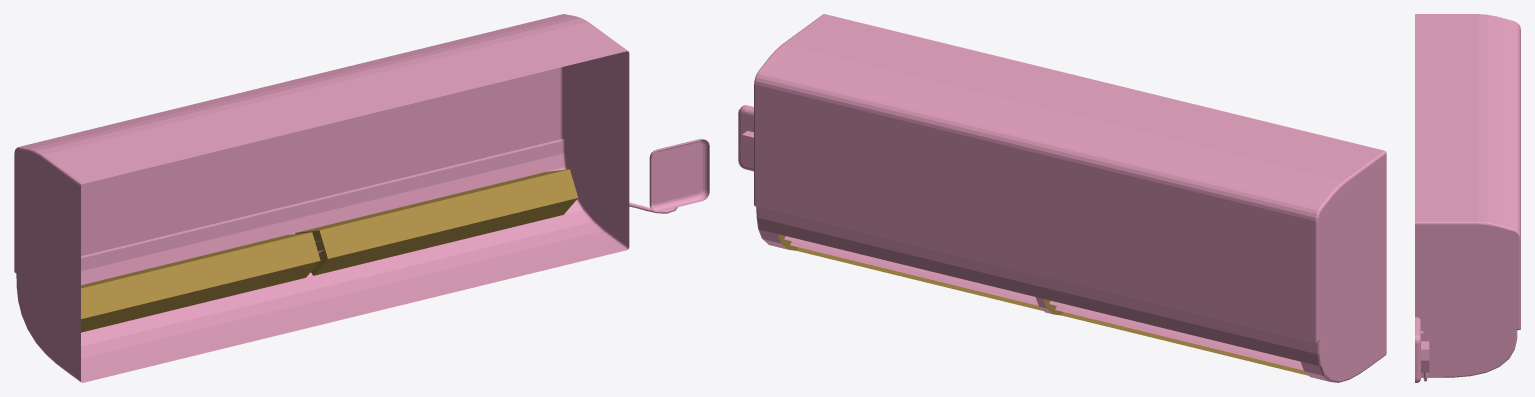
3 views of the same model, side by side, from view 1: azimuth 30°, elevation 25°; view 2: azimuth 150°, elevation 25°; view 3: azimuth 270°, elevation 25° (orthographic). The views are drawn at different scales.
Parts seen in each view (by area): view 1: Cube.020; view 2: Cube.020; view 3: Cube.020.
Part boxes in pixels (x1,y1,x2,y2): Cube.020: (14,14,709,382); Cube.020: (738,14,1386,382); Cube.020: (1415,14,1520,382).
Bounding box in the file's own units: 86 × 26 × 16.
